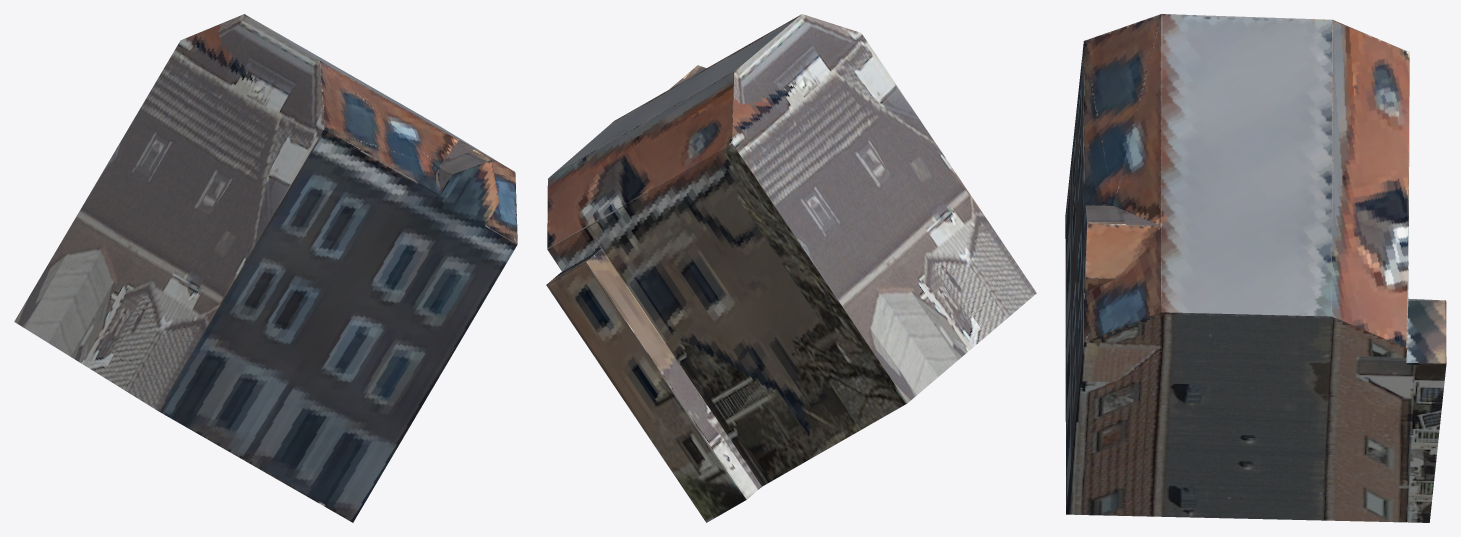
The picture shows the model from 3 angles, left to right: view 1: azimuth 30°, elevation 25°; view 2: azimuth 150°, elevation 25°; view 3: azimuth 270°, elevation 25°; orthographic projection. The views are drawn at different scales.
Parts seen in each view (by area): view 1: BAG_0599100000688758 (×4); view 2: BAG_0599100000688758 (×4); view 3: BAG_0599100000688758 (×4).
Boxes of the visible parts, bbox=[...] form: BAG_0599100000688758 (×4): bbox=[14, 14, 517, 522]; BAG_0599100000688758 (×4): bbox=[546, 14, 1036, 522]; BAG_0599100000688758 (×4): bbox=[1065, 14, 1446, 522].
Size of the model in its own units: 15.55 by 16.27 by 10.86.
Materials: 5 (5 with a texture image).
